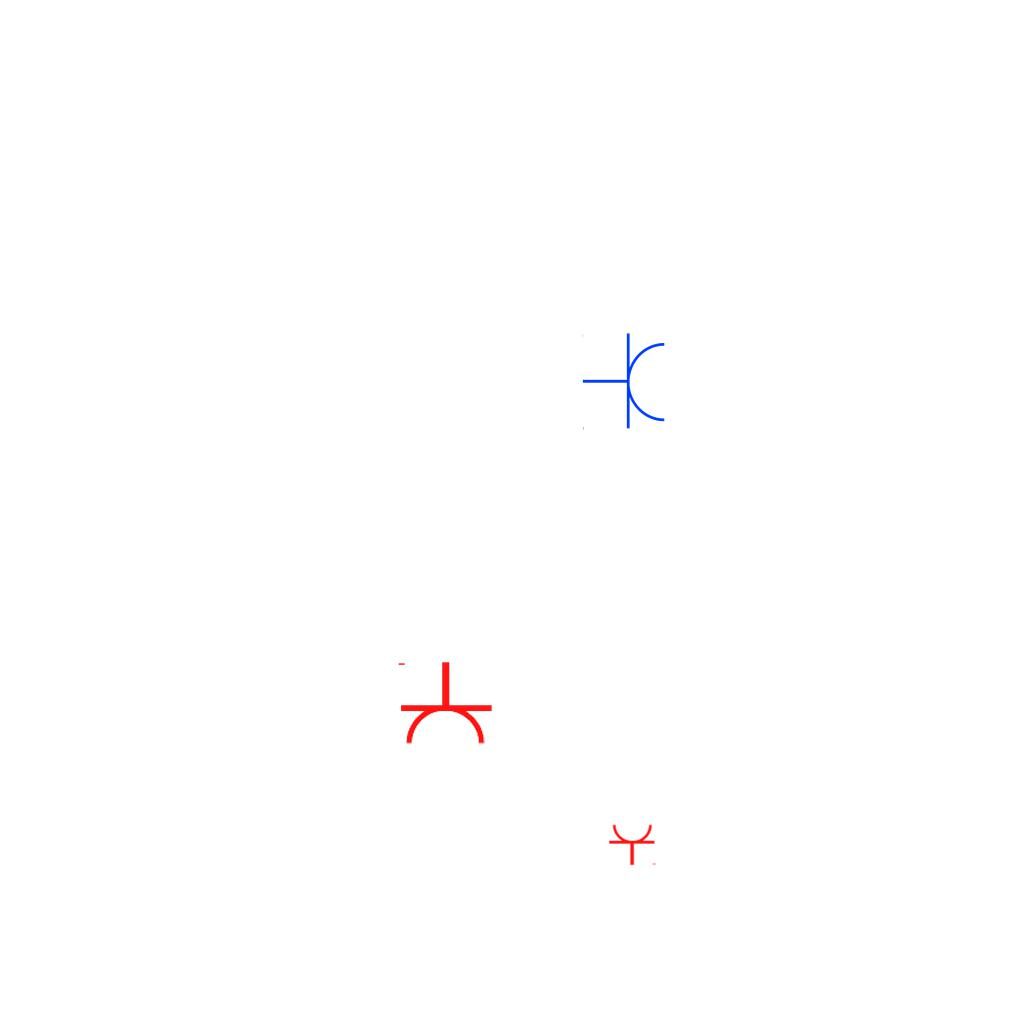Schukosteckdose_einfach: (582, 332, 669, 432), (394, 660, 494, 747), (608, 823, 658, 866)
